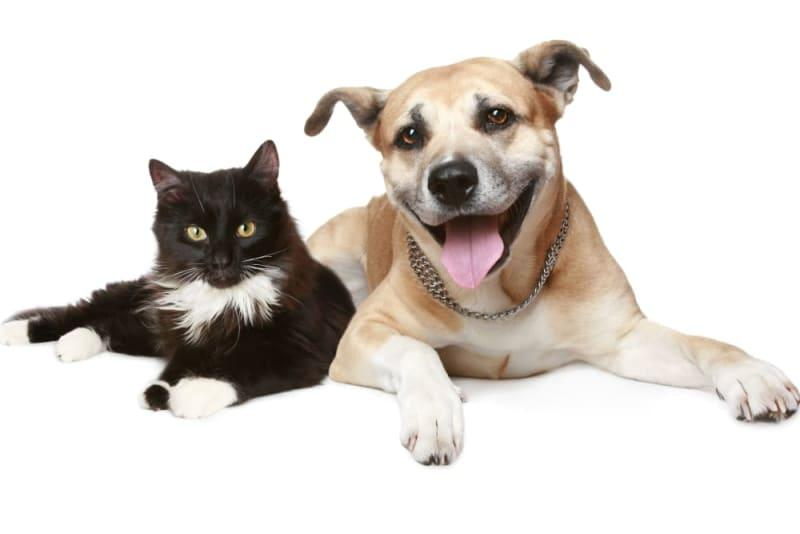cat: (26, 135, 337, 407)
dog: (304, 52, 795, 449)
